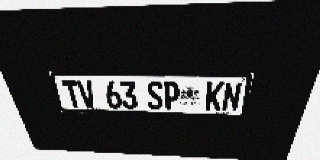3: (119, 81, 138, 109)
6: (103, 81, 123, 109)
K: (205, 82, 224, 111)
N: (221, 82, 243, 112)
P: (163, 81, 179, 110)
S: (146, 81, 163, 110)
T: (61, 80, 83, 108)
V: (76, 80, 97, 108)
